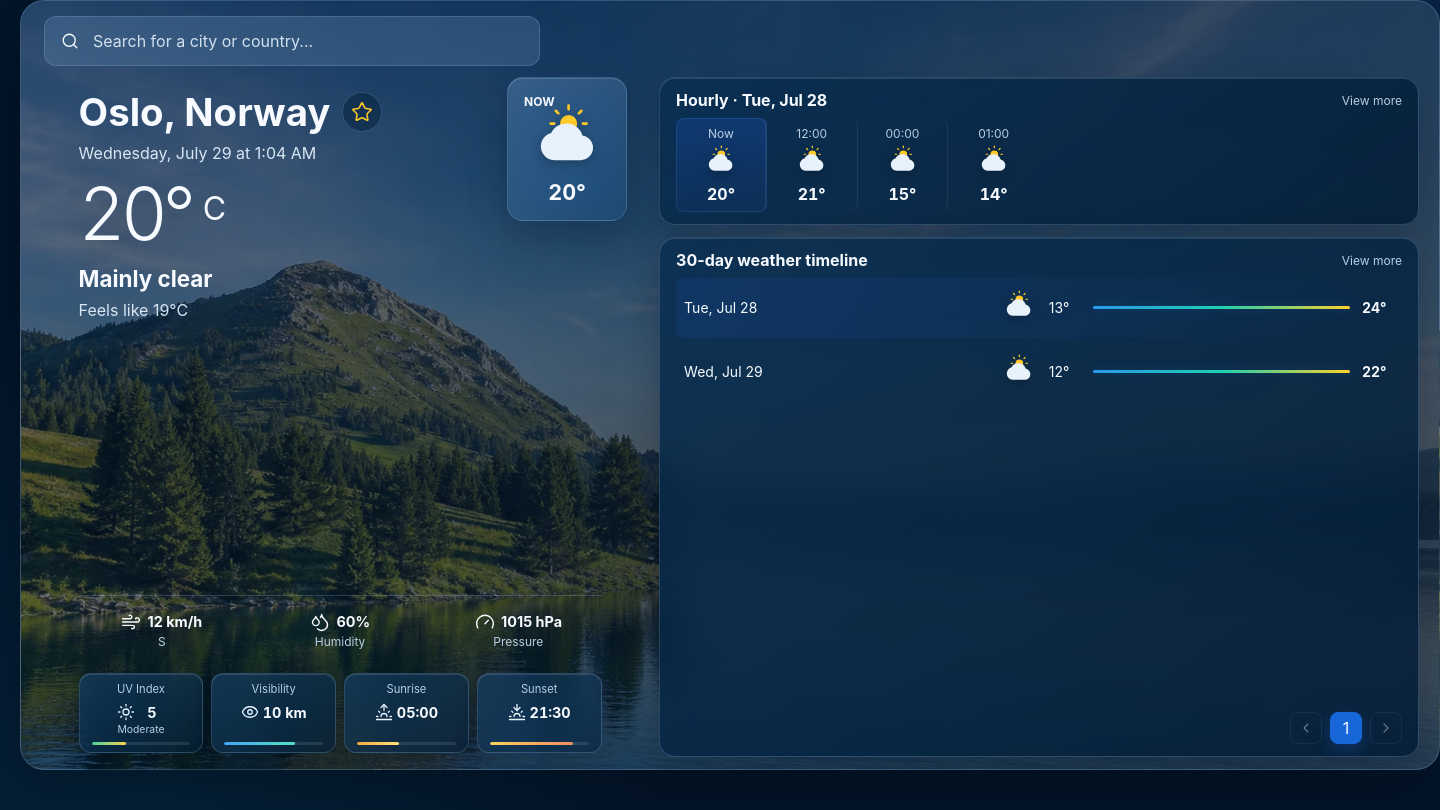
Scenario: ForecastPage › shows the API hourly records for the selected calendar date
Expected: the text "Now" is shown, top-left (708, 126), bottom-right (734, 141)
Click the button "Wed, Jul 29 12° 22°". click: (723, 371)
box: top-left (676, 342), bottom-right (1402, 401)
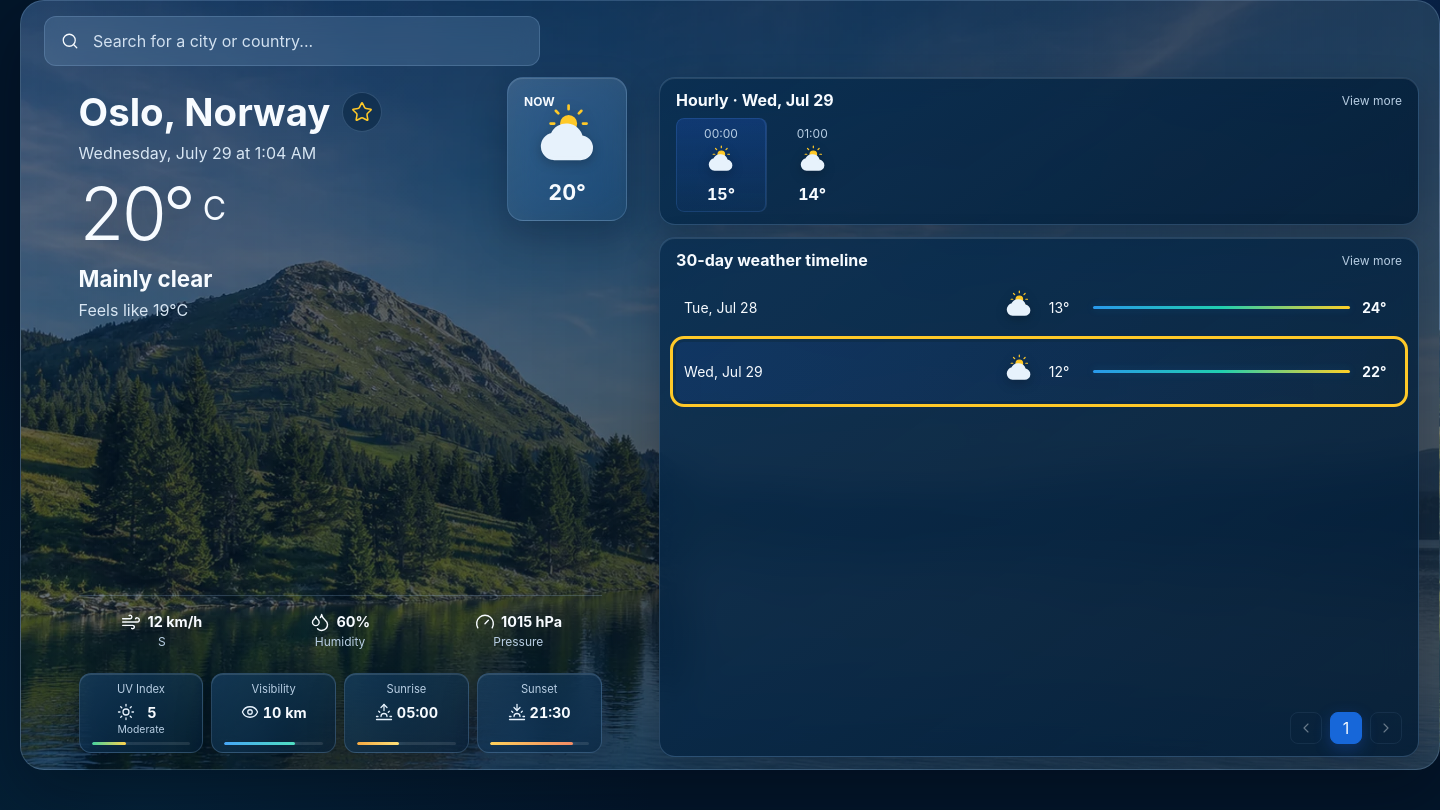
Expected: the text "00:00" is shown, top-left (704, 126), bottom-right (738, 141)
Result: the heading "Hourly · Wed, Jul 29" is shown at top-left (676, 90), bottom-right (834, 110)
